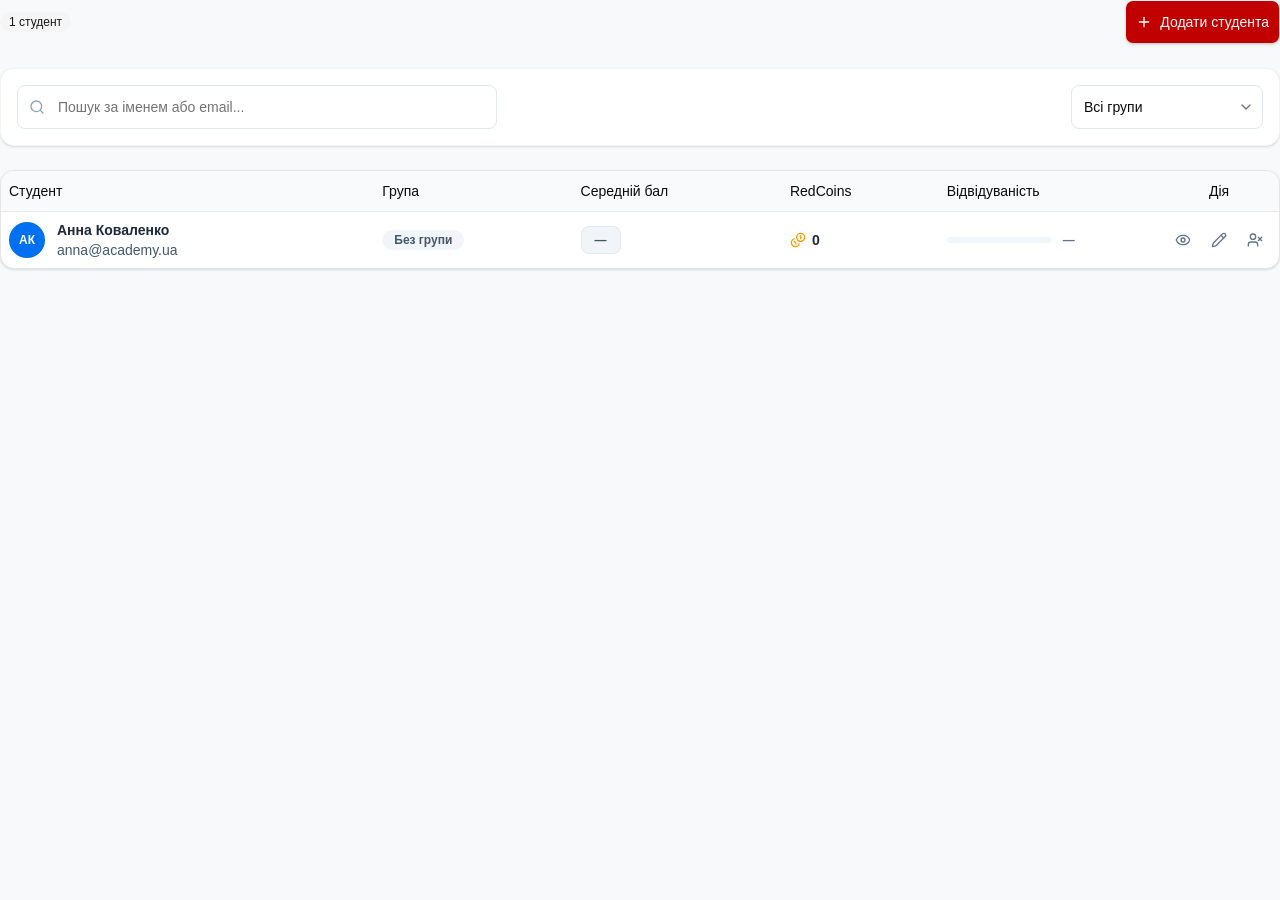
Test: StudentsPage — деактивація › після підтвердження деактивує студента і прибирає його з таблиці
Expected: the text "Анна Коваленко" is shown, 57,220 -> 178,240
Step 1. Click the button named "Деактивувати: Анна Коваленко" → (1255, 240), box 1239,224 -> 1271,256
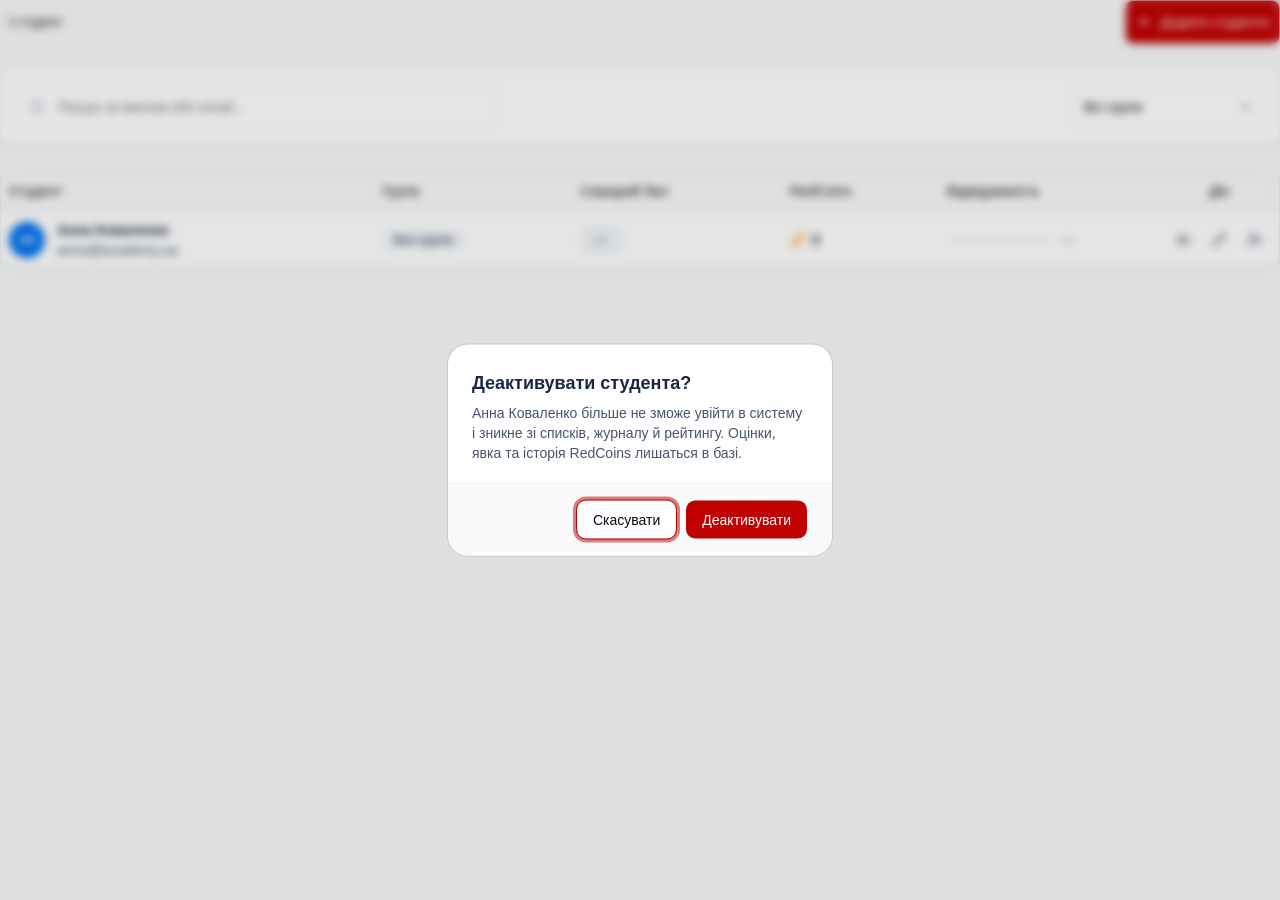
Result: the dialog shows "Анна Коваленко більше не зможе увійти" at 472,404 -> 802,460
Step 2. Click the button "Деактивувати" → (747, 520), box 685,500 -> 808,540
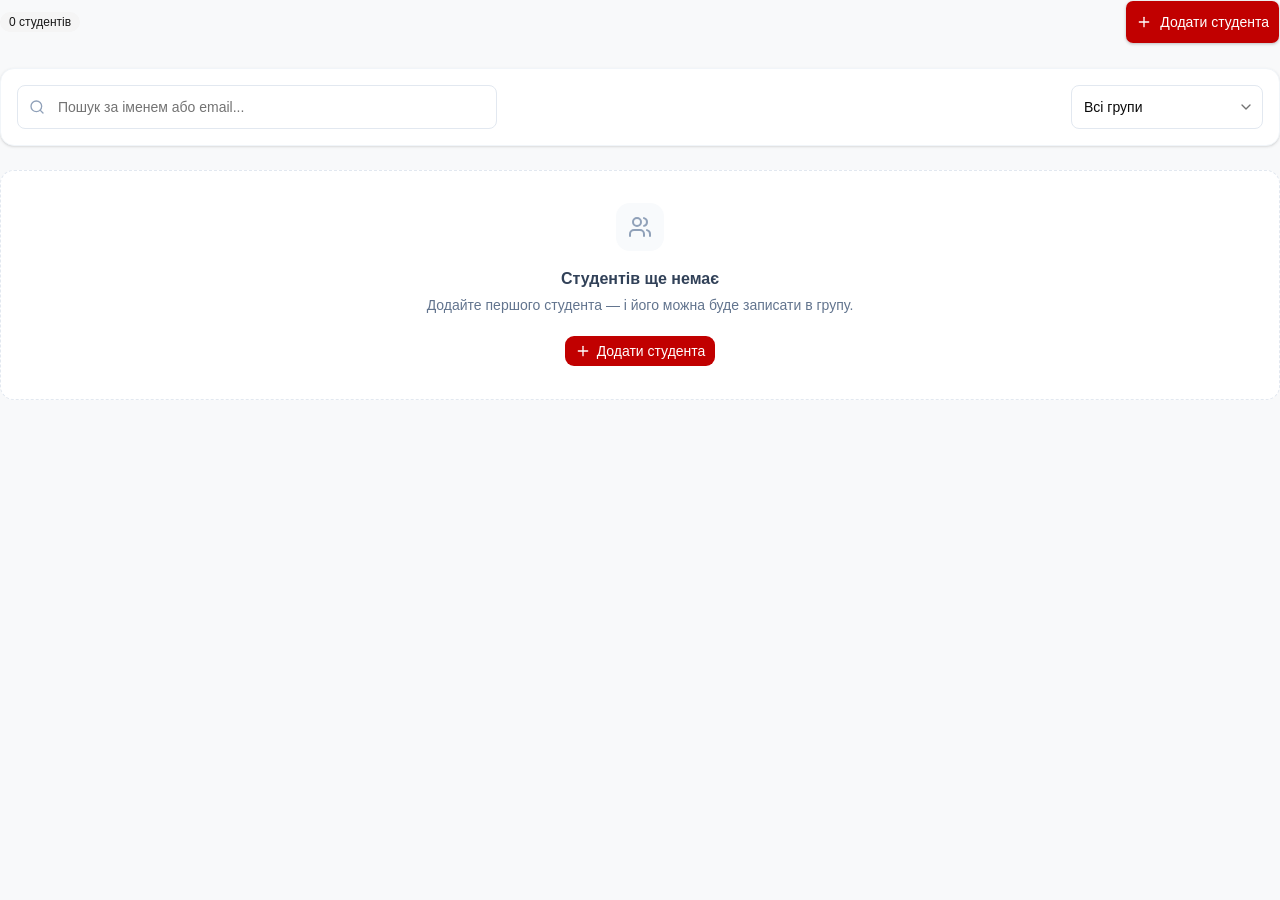
Result: the text "Анна Коваленко" is gone
